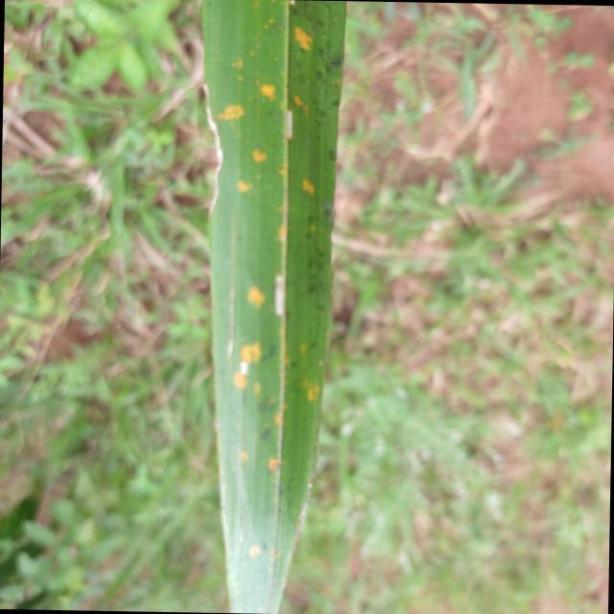Kalium: (204, 0, 348, 614)
